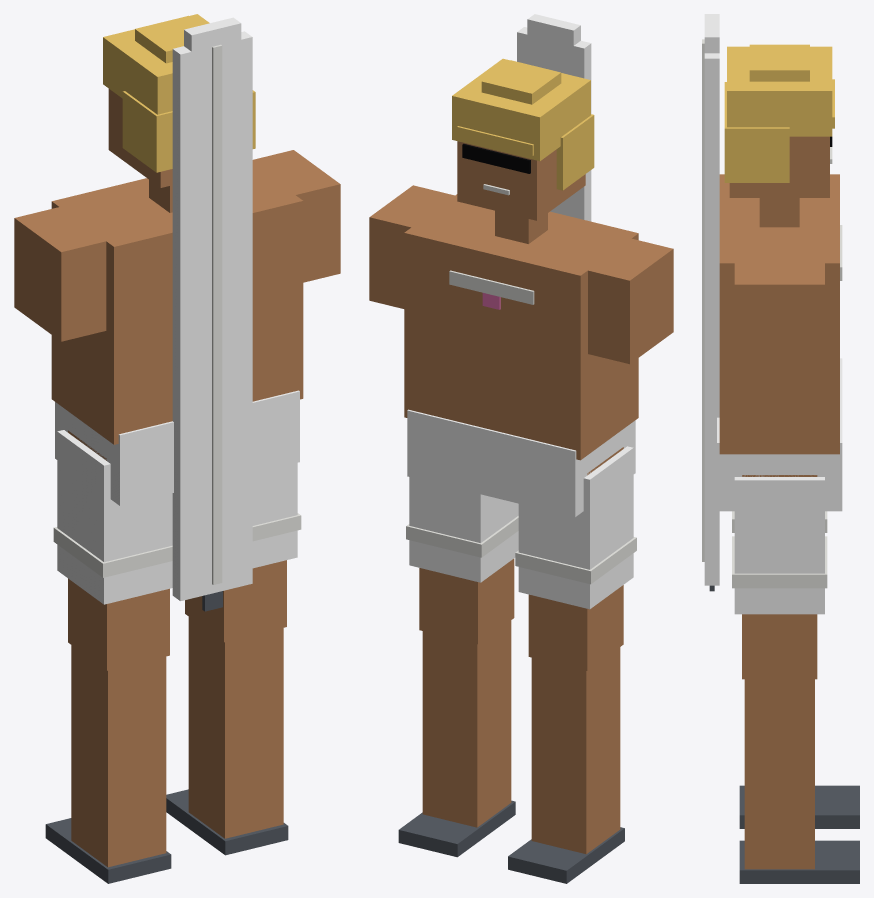
Rendered from SURFER.gltf.
3 views of the same model, side by side, from view 1: azimuth 30°, elevation 25°; view 2: azimuth 150°, elevation 25°; view 3: azimuth 270°, elevation 25° (orthographic). The views are drawn at different scales.
Visible parts, largest first — view 1: SURFER; view 2: SURFER; view 3: SURFER.
Boxes of the visible parts, bbox=[...] form: SURFER: bbox=[14, 14, 340, 883]; SURFER: bbox=[369, 14, 673, 883]; SURFER: bbox=[702, 14, 859, 883].
Size of the model in its own units: 0.62 by 1.79 by 0.315.
